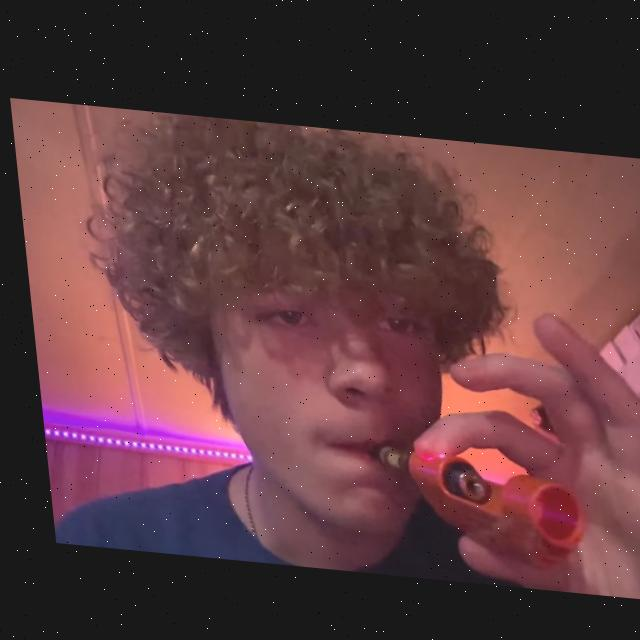vape: (357, 433, 581, 564)
